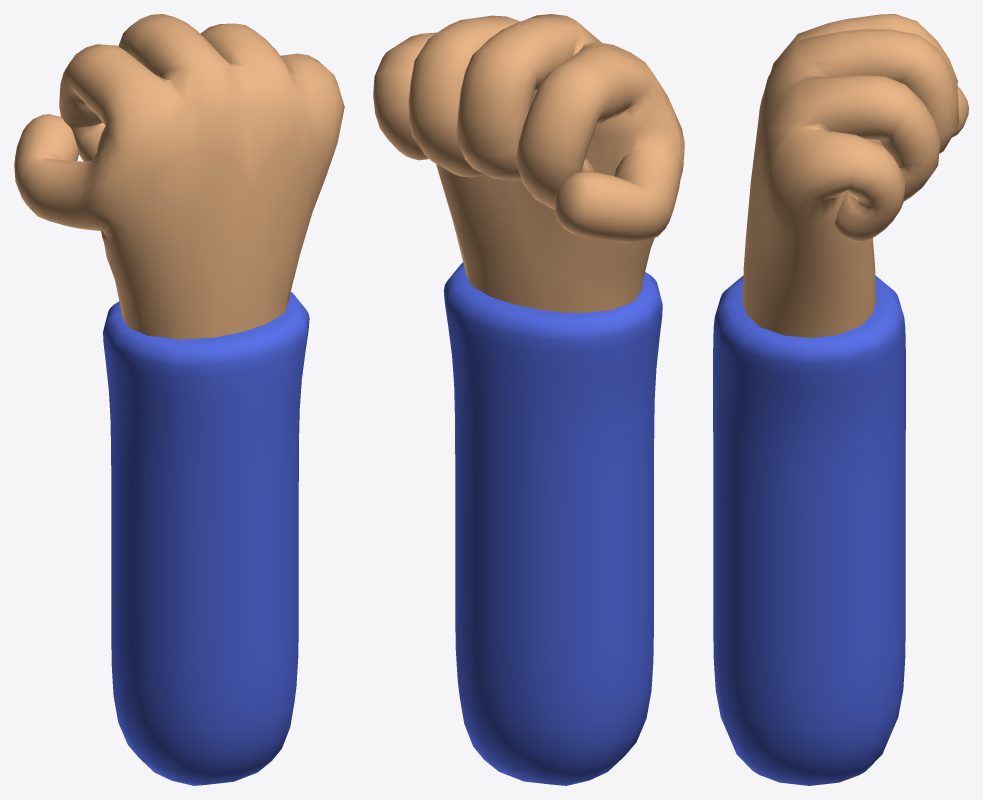
The model's file is rock.glb.
The picture shows the model from 3 angles, left to right: view 1: azimuth 30°, elevation 25°; view 2: azimuth 150°, elevation 25°; view 3: azimuth 270°, elevation 25°; orthographic projection. The views are drawn at different scales.
Visible parts, largest first — view 1: Sleeve, Cube; view 2: Sleeve, Cube; view 3: Sleeve, Cube.
Boxes of the visible parts, bbox=[...] form: Sleeve: bbox=[103, 292, 309, 785]; Cube: bbox=[14, 14, 344, 339]; Sleeve: bbox=[443, 262, 662, 785]; Cube: bbox=[373, 14, 684, 313]; Sleeve: bbox=[713, 275, 905, 785]; Cube: bbox=[742, 14, 968, 337].
Size of the model in its own units: 6.65 by 16.28 by 5.08.
